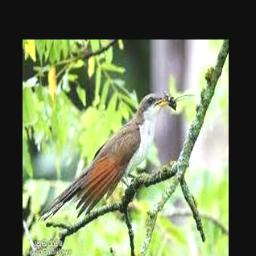Cuckoo: (39, 94, 169, 222)
